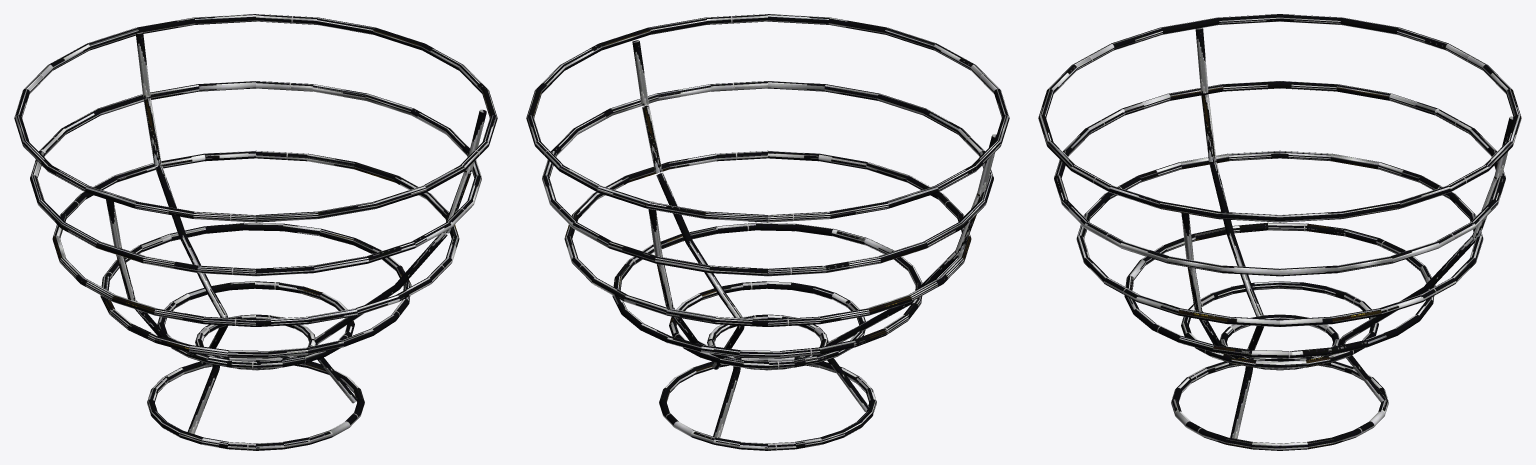
3 renders of one model, left to right at view 1: azimuth 30°, elevation 25°; view 2: azimuth 150°, elevation 25°; view 3: azimuth 270°, elevation 25°, orthographic.
Parts seen in each view (by area): view 1: mesh24_mesh24-geometry, mesh23_mesh23-geometry, mesh22_mesh22-geometry, mesh19_mesh19-geometry, mesh18_mesh18-geometry, mesh21_mesh21-geometry, mesh9_mesh9-geometry, mesh2_mesh2-geometry, mesh12_mesh12-geometry, mesh20_mesh20-geometry, mesh4_mesh4-geometry, mesh3_mesh3-geometry; view 2: mesh24_mesh24-geometry, mesh23_mesh23-geometry, mesh22_mesh22-geometry, mesh19_mesh19-geometry, mesh18_mesh18-geometry, mesh21_mesh21-geometry, mesh9_mesh9-geometry, mesh12_mesh12-geometry, mesh2_mesh2-geometry, mesh20_mesh20-geometry, mesh10_mesh10-geometry, mesh11_mesh11-geometry; view 3: mesh24_mesh24-geometry, mesh23_mesh23-geometry, mesh22_mesh22-geometry, mesh19_mesh19-geometry, mesh18_mesh18-geometry, mesh21_mesh21-geometry, mesh2_mesh2-geometry, mesh12_mesh12-geometry, mesh9_mesh9-geometry, mesh20_mesh20-geometry, mesh14_mesh14-geometry, mesh13_mesh13-geometry.
Boxes of the visible parts, bbox=[...] form: mesh24_mesh24-geometry: bbox=[14, 14, 497, 222]; mesh23_mesh23-geometry: bbox=[30, 81, 481, 276]; mesh22_mesh22-geometry: bbox=[52, 150, 459, 326]; mesh19_mesh19-geometry: bbox=[100, 222, 411, 358]; mesh18_mesh18-geometry: bbox=[147, 357, 364, 450]; mesh21_mesh21-geometry: bbox=[157, 281, 354, 369]; mesh9_mesh9-geometry: bbox=[313, 232, 447, 403]; mesh2_mesh2-geometry: bbox=[155, 165, 227, 365]; mesh12_mesh12-geometry: bbox=[135, 300, 219, 434]; mesh20_mesh20-geometry: bbox=[195, 314, 315, 370]; mesh4_mesh4-geometry: bbox=[143, 97, 161, 165]; mesh3_mesh3-geometry: bbox=[136, 32, 150, 97]; mesh24_mesh24-geometry: bbox=[526, 14, 1009, 222]; mesh23_mesh23-geometry: bbox=[542, 81, 993, 276]; mesh22_mesh22-geometry: bbox=[564, 150, 971, 326]; mesh19_mesh19-geometry: bbox=[612, 222, 922, 358]; mesh18_mesh18-geometry: bbox=[659, 357, 876, 450]; mesh21_mesh21-geometry: bbox=[669, 281, 865, 369]; mesh9_mesh9-geometry: bbox=[656, 172, 744, 369]; mesh12_mesh12-geometry: bbox=[825, 251, 958, 411]; mesh2_mesh2-geometry: bbox=[672, 307, 740, 438]; mesh20_mesh20-geometry: bbox=[707, 314, 828, 370]; mesh10_mesh10-geometry: bbox=[642, 105, 662, 173]; mesh11_mesh11-geometry: bbox=[632, 40, 648, 105]; mesh24_mesh24-geometry: bbox=[1038, 14, 1521, 222]; mesh23_mesh23-geometry: bbox=[1054, 81, 1505, 276]; mesh22_mesh22-geometry: bbox=[1076, 150, 1483, 326]; mesh19_mesh19-geometry: bbox=[1124, 222, 1435, 358]; mesh18_mesh18-geometry: bbox=[1171, 357, 1388, 450]; mesh21_mesh21-geometry: bbox=[1181, 281, 1378, 369]; mesh2_mesh2-geometry: bbox=[1339, 235, 1475, 402]; mesh12_mesh12-geometry: bbox=[1209, 162, 1263, 358]; mesh9_mesh9-geometry: bbox=[1199, 311, 1252, 438]; mesh20_mesh20-geometry: bbox=[1219, 314, 1340, 370]; mesh14_mesh14-geometry: bbox=[1201, 94, 1216, 161]; mesh13_mesh13-geometry: bbox=[1195, 27, 1208, 93].
Bounding box in the file's own units: 0.6398 × 0.4257 × 0.6398.
